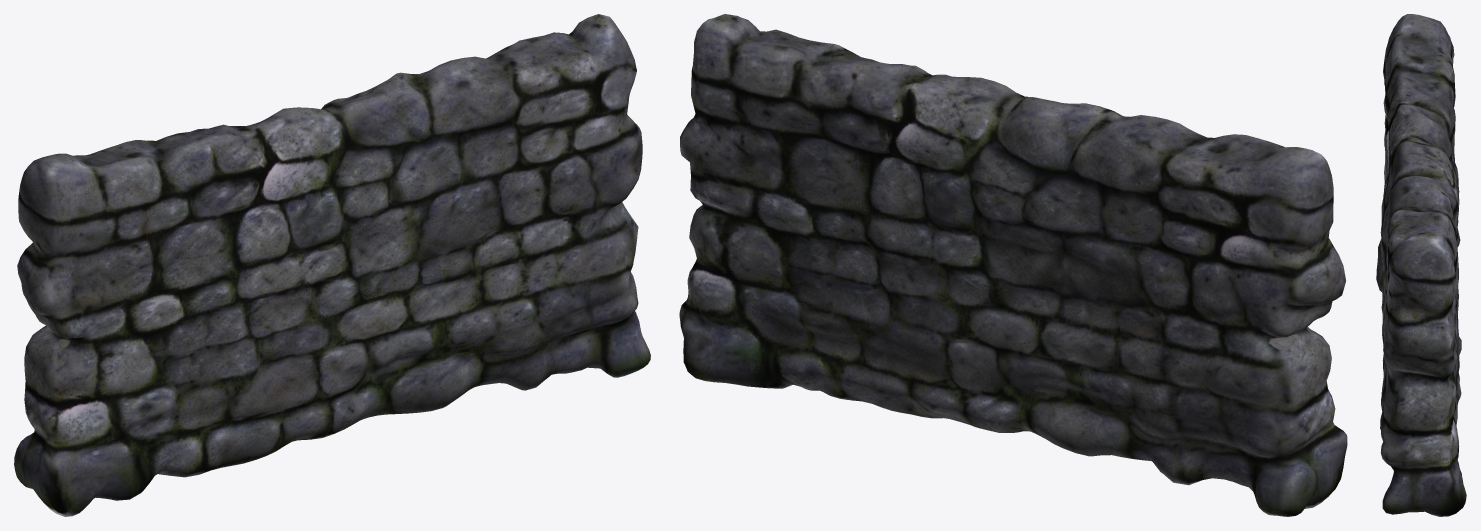
Rendered from Wall 1.fbx.
3 views of the same model, side by side, from view 1: azimuth 30°, elevation 25°; view 2: azimuth 150°, elevation 25°; view 3: azimuth 270°, elevation 25° (orthographic). The views are drawn at different scales.
Parts seen in each view (by area): view 1: mesh; view 2: mesh; view 3: mesh.
Part boxes in pixels (<box>): mesh: <box>14,14,650,516</box>; mesh: <box>679,14,1347,516</box>; mesh: <box>1376,14,1466,516</box>.
Size of the model in its own units: 99.89 by 54.15 by 15.55.
